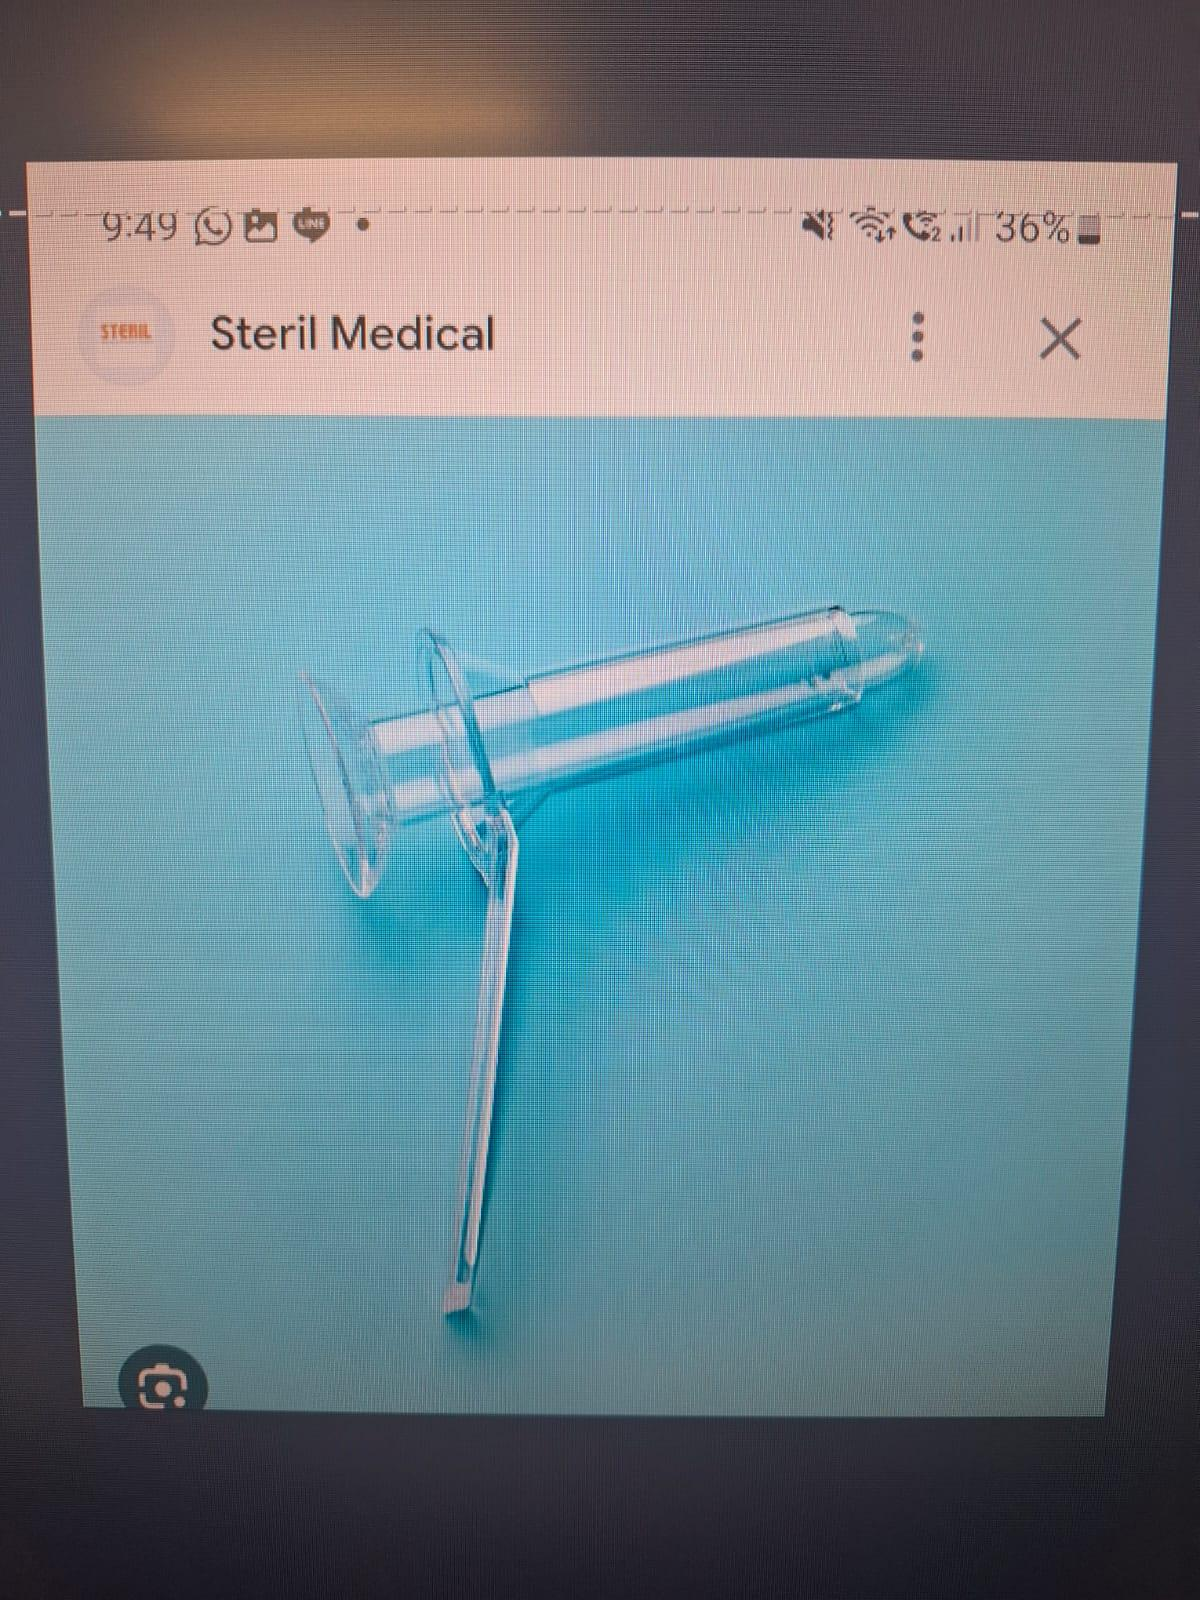Protoscope: (285, 602, 961, 1340)
